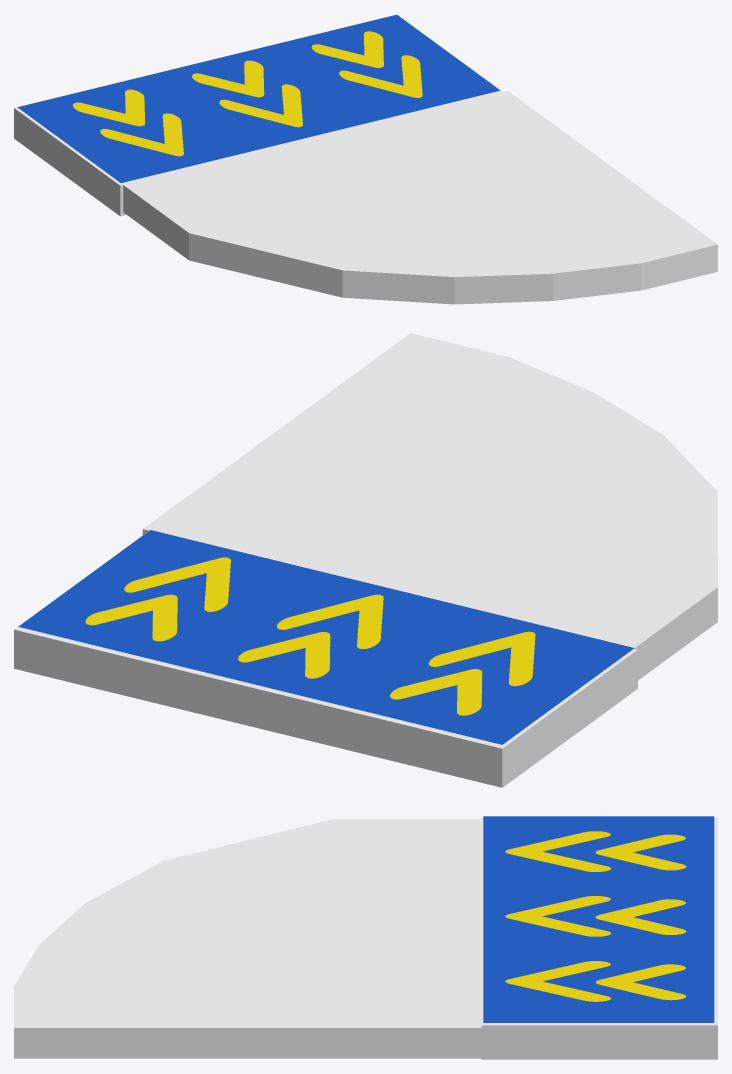
The model's file is Left Turn Tile.fbx.
3 views of the same model, one above another, from view 1: azimuth 30°, elevation 25°; view 2: azimuth 150°, elevation 25°; view 3: azimuth 270°, elevation 25° (orthographic). The views are drawn at different scales.
Visible parts, largest first — view 1: Left_Turn_Tile, Speed_Boost_BG, Cube__1_, Speed_Boost_Arrows, Speed_Boost_Arrows__2_, Speed_Boost_Arrows__1_; view 2: Left_Turn_Tile, Speed_Boost_BG, Cube__1_, Cube__2_, Cube, Speed_Boost_Arrows__1_, Speed_Boost_Arrows, Speed_Boost_Arrows__2_; view 3: Left_Turn_Tile, Speed_Boost_BG, Cube__2_, Speed_Boost_Arrows__2_, Speed_Boost_Arrows, Speed_Boost_Arrows__1_, Cube, Cube__1_.
Part boxes in pixels (x1,y1,x2,y2): Left_Turn_Tile: [123, 91, 717, 304]; Speed_Boost_BG: [17, 14, 500, 182]; Cube__1_: [14, 77, 251, 216]; Speed_Boost_Arrows: [192, 60, 302, 127]; Speed_Boost_Arrows__2_: [73, 89, 183, 156]; Speed_Boost_Arrows__1_: [311, 31, 422, 97]; Left_Turn_Tile: [142, 333, 717, 680]; Speed_Boost_BG: [18, 530, 634, 744]; Cube__1_: [335, 649, 637, 787]; Cube__2_: [14, 533, 185, 709]; Cube: [173, 666, 345, 748]; Speed_Boost_Arrows__1_: [85, 557, 230, 641]; Speed_Boost_Arrows: [238, 594, 383, 678]; Speed_Boost_Arrows__2_: [390, 631, 535, 715]; Left_Turn_Tile: [14, 819, 481, 1058]; Speed_Boost_BG: [483, 816, 714, 1022]; Cube__2_: [481, 953, 717, 1059]; Speed_Boost_Arrows__2_: [505, 831, 686, 871]; Speed_Boost_Arrows: [505, 896, 686, 936]; Speed_Boost_Arrows__1_: [505, 961, 686, 1001]; Cube: [481, 885, 717, 957]; Cube__1_: [481, 817, 717, 887].
Size of the model in its own units: 387 by 33.21 by 546.
4 materials, 2 textured.
